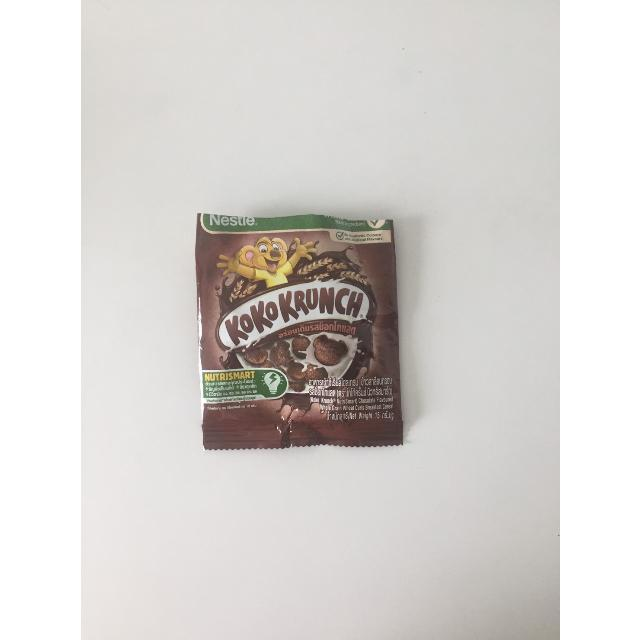Paquete de plastico: (197, 210, 405, 449)
